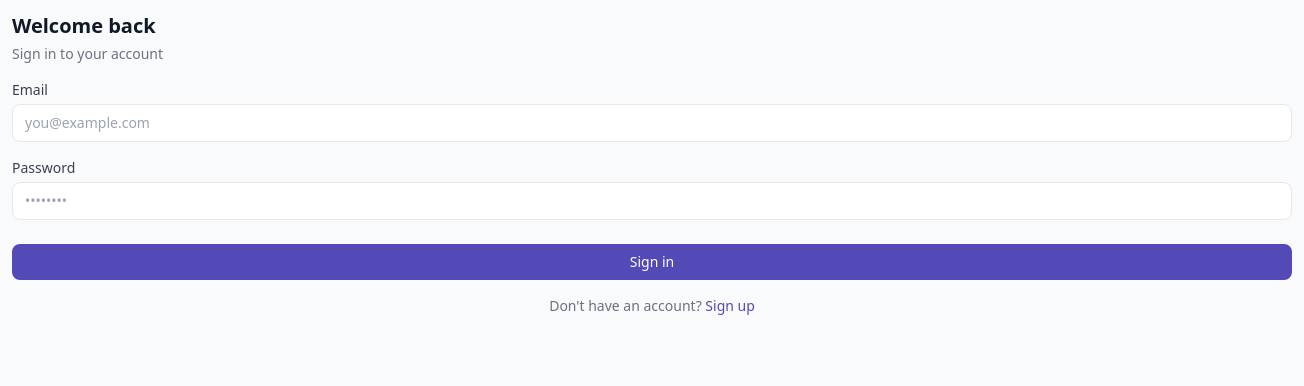
LoginForm › shows server error when API fails
The width and height of the screenshot is (1304, 386).
Type "yashika@test.com" into the field labelled "Email". click: (652, 123)
box: [12,104,1292,142]
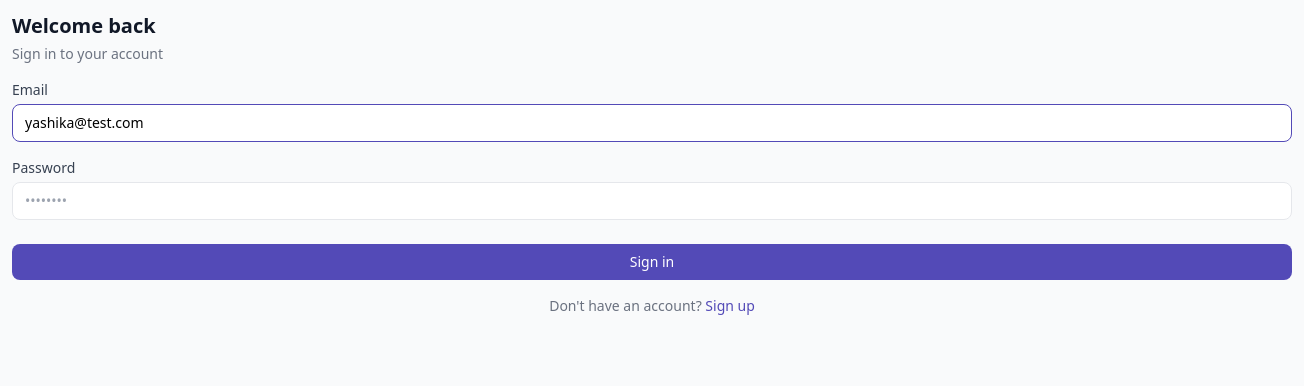
Type "password123" into the password field labelled "Password". click: (652, 201)
box: [12,182,1292,220]
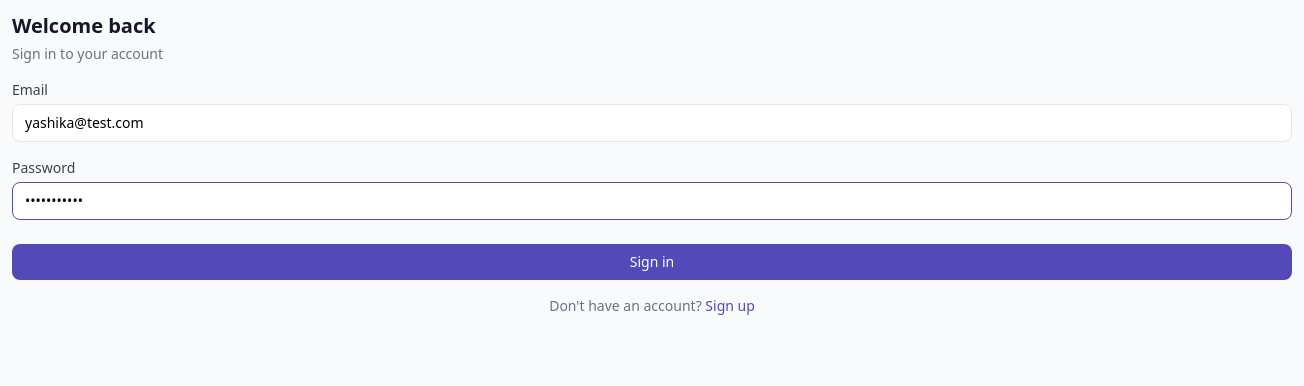
Click the button "Sign in". click: (652, 262)
box: [12,244,1292,280]
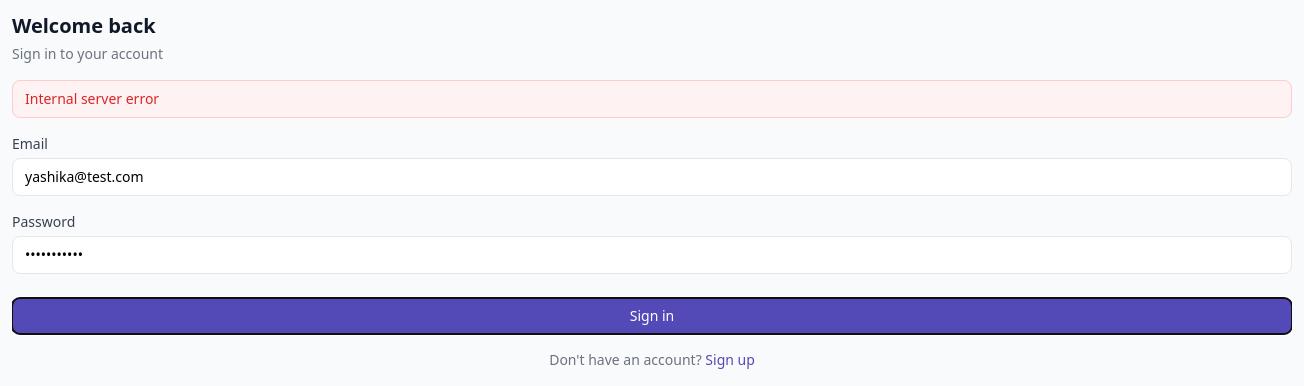
Now the text "Internal server error" is shown, box [12,80,1292,118]
